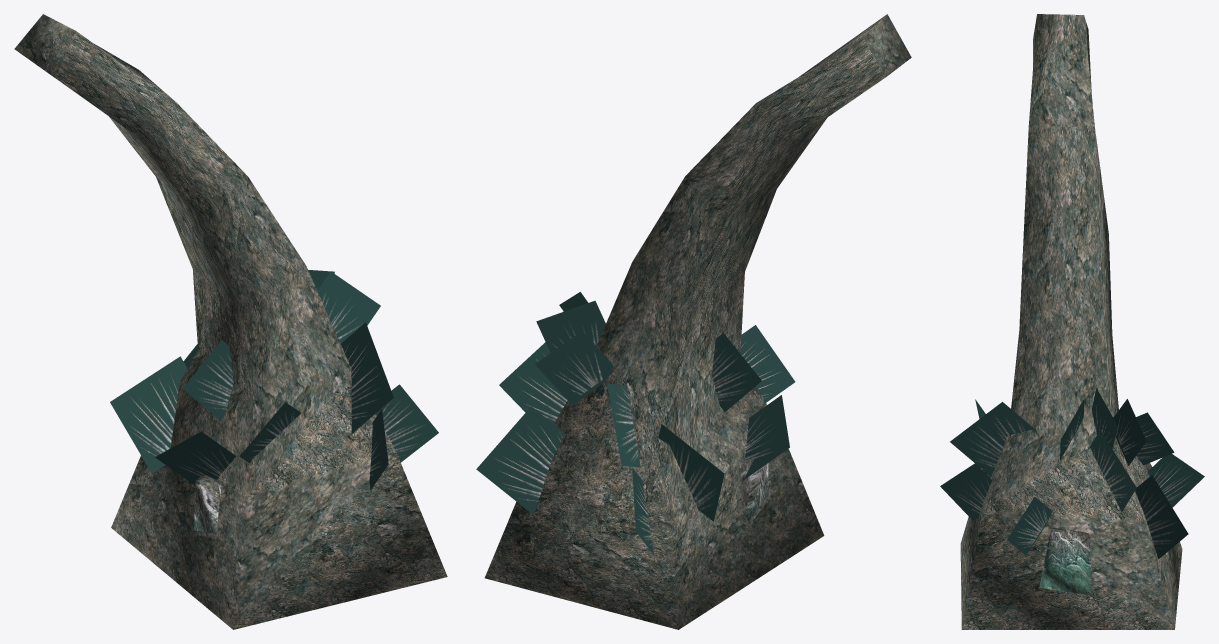
Rendered from rock_crystl_arch_half_med_l3.fbx.
The picture shows the model from 3 angles, left to right: view 1: azimuth 30°, elevation 25°; view 2: azimuth 150°, elevation 25°; view 3: azimuth 270°, elevation 25°; orthographic projection. The views are drawn at different scales.
Parts seen in each view (by area): view 1: mesh_node; view 2: mesh_node; view 3: mesh_node.
Boxes of the visible parts, <box> form: mesh_node: <box>14,14,447,629</box>; mesh_node: <box>476,14,911,629</box>; mesh_node: <box>940,14,1204,629</box>.
Bounding box in the file's own units: 23.75 × 35.81 × 17.71.
